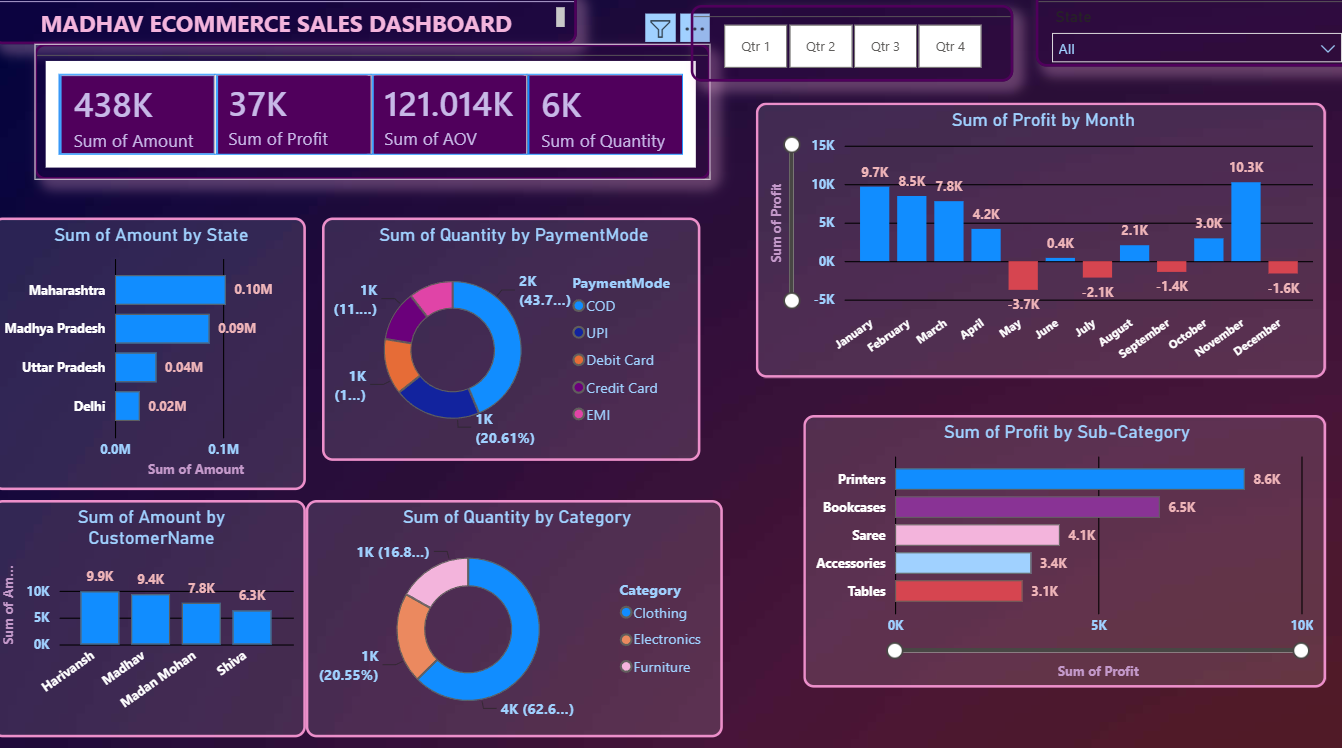

This screenshot's page, from the dashboard's own definition file:
{"tool":"powerbi","page":{"name":"Page 1","canvas":[1280,720],"ordinal":0},"visuals":[{"type":"textbox","box":[9.3,0,544.2,50],"z":0},{"type":"columnChart","fields":{"Category":["Table.Order Date.Variation.Date Hierarchy.Month"],"Y":["Sum(Details.Profit)"]},"box":[719.8,104.7,530.2,255.8],"z":1000},{"type":"barChart","fields":{"Category":["Details.Sub-Category"],"Y":["Sum(Details.Profit)"]},"box":[764,395.3,486,253.5],"z":2000},{"type":"donutChart","fields":{"Category":["Details.Category"],"Y":["Sum(Details.Quantity)"]},"box":[301.2,474.4,388.4,220.9],"z":3000},{"type":"donutChart","fields":{"Y":["Sum(Details.Quantity)"],"Category":["Details.PaymentMode"]},"box":[316.3,211.6,352.3,226.7],"z":4000},{"type":"cardVisual","fields":{"Data":["Sum(Details.Amount)","Sum(Details.Profit)","Sum(Details.AOV)","Sum(Details.Quantity)"]},"box":[48.8,50,629.1,126.7],"z":5000},{"type":"barChart","fields":{"Category":["Table.State"],"Y":["Sum(Details.Amount)"]},"box":[9.3,211.6,291.9,253.5],"z":6000},{"type":"columnChart","fields":{"Category":["Table.CustomerName"],"Y":["Sum(Details.Amount)"]},"box":[9,474,292,221],"z":7000},{"type":"slicer","fields":{"Values":["Table.Order Date.Variation.Date Hierarchy.Quarter"]},"box":[659.3,14,300,70.9],"z":8000},{"type":"slicer","fields":{"Values":["Table.State"]},"box":[980.2,0,300,70.9],"z":8001}]}

Visuals, with their boxes in screenshot pixels (x1, y1, x2, y2), scaled from the page's 1280x720 canvas onto the 1342x748 screenshot:
textbox: 10/0/580/52
columnChart - Table.Order Date.Variation.Date Hierarchy.Month x Sum(Details.Profit): 755/109/1311/375
barChart - Details.Sub-Category x Sum(Details.Profit): 801/411/1311/674
donutChart - Details.Category x Sum(Details.Quantity): 316/493/723/722
donutChart - Sum(Details.Quantity) x Details.PaymentMode: 332/220/701/455
cardVisual - Sum(Details.Amount) x Sum(Details.Profit): 51/52/711/184
barChart - Table.State x Sum(Details.Amount): 10/220/316/483
columnChart - Table.CustomerName x Sum(Details.Amount): 9/492/316/722
slicer - Table.Order Date.Variation.Date Hierarchy.Quarter: 691/15/1006/88
slicer - Table.State: 1028/0/1341/74
